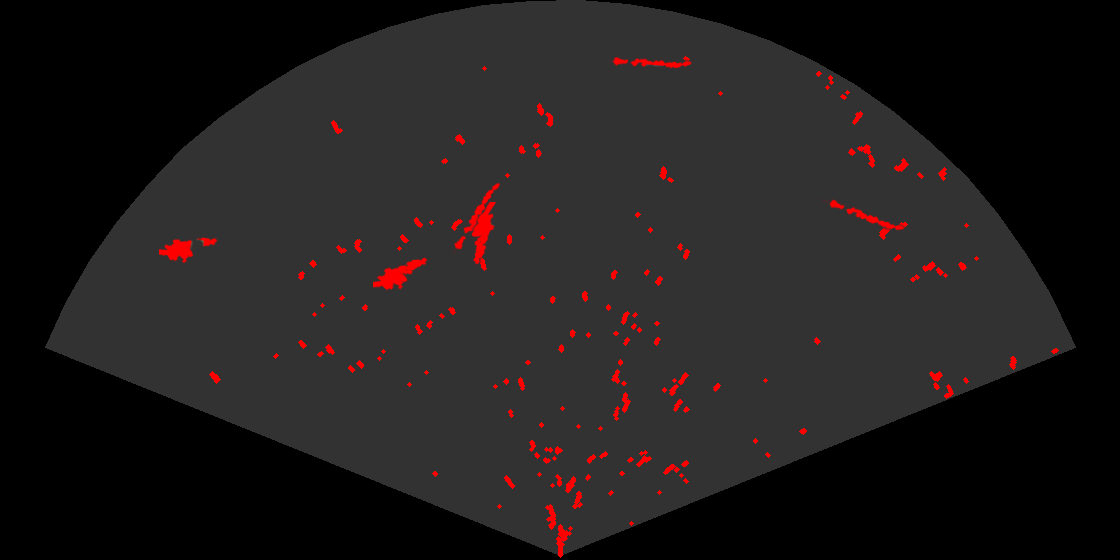chain: (451, 181, 502, 254), (822, 198, 906, 232), (610, 56, 692, 70)
frogman: (373, 256, 429, 292), (468, 202, 498, 266), (159, 236, 218, 265)
